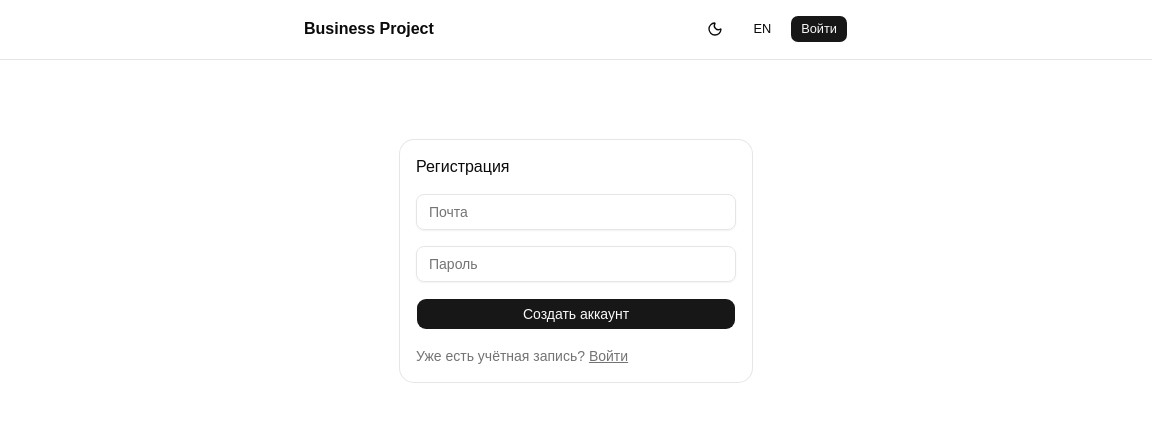
короткий пароль подсвечивает поле пароля, а не всю форму
Step 1. Type "user@example.com" into the field with placeholder "Почта" → (576, 212), box [416,194,736,230]
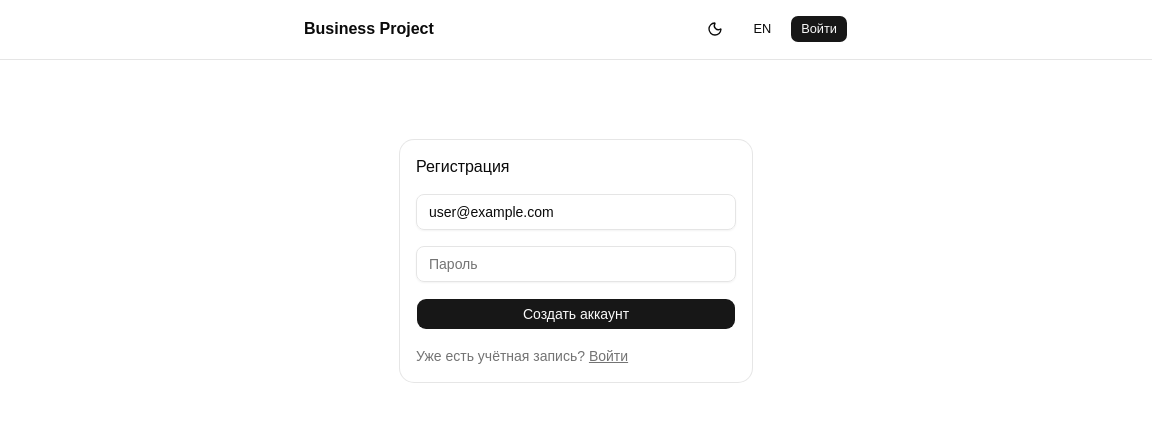
Step 2. Type "коротко" into the password field with placeholder "Пароль" → (576, 264), box [416,246,736,282]
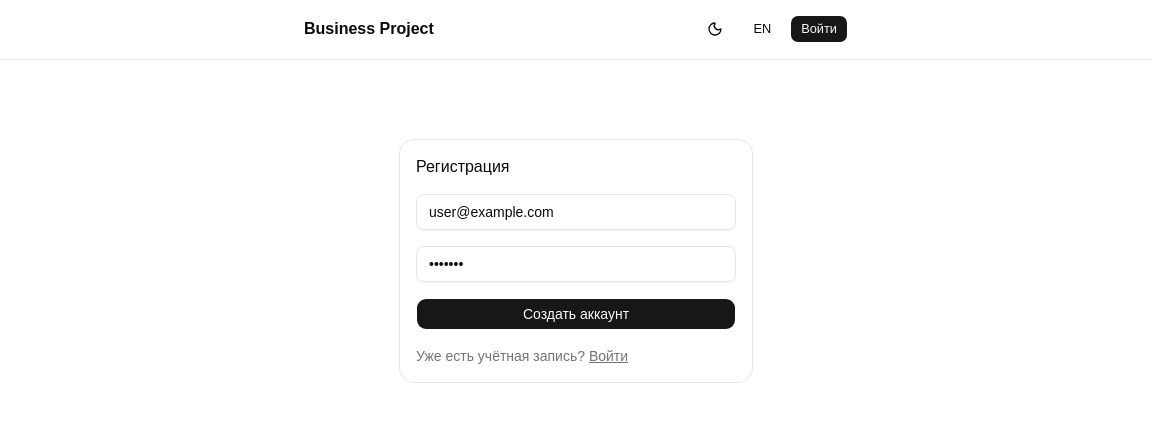
Step 3. Click the button "Создать аккаунт" → (576, 314), box [416,298,736,330]
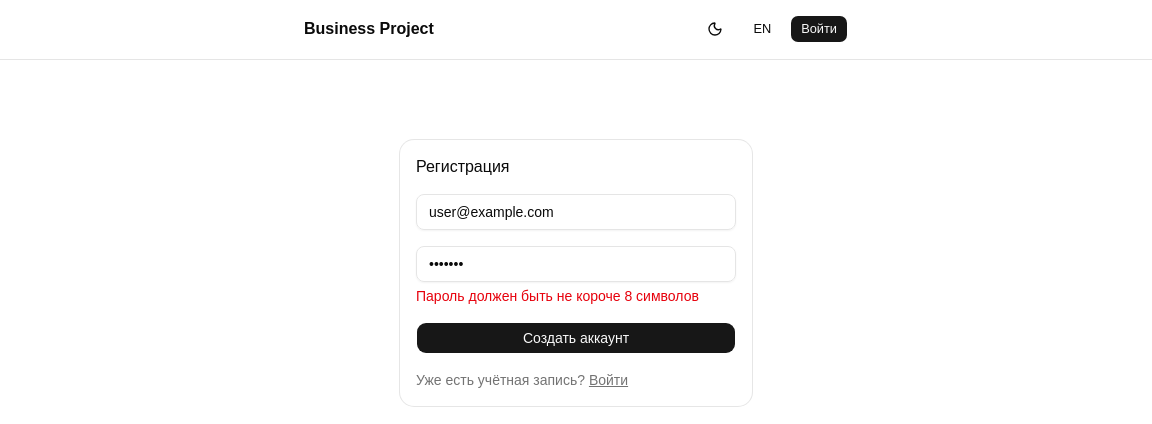
Expected: the number of messages is 1, [416,286,736,306]
Expected: the message reads "Пароль должен быть не короче 8 символов", [416,288,699,304]
